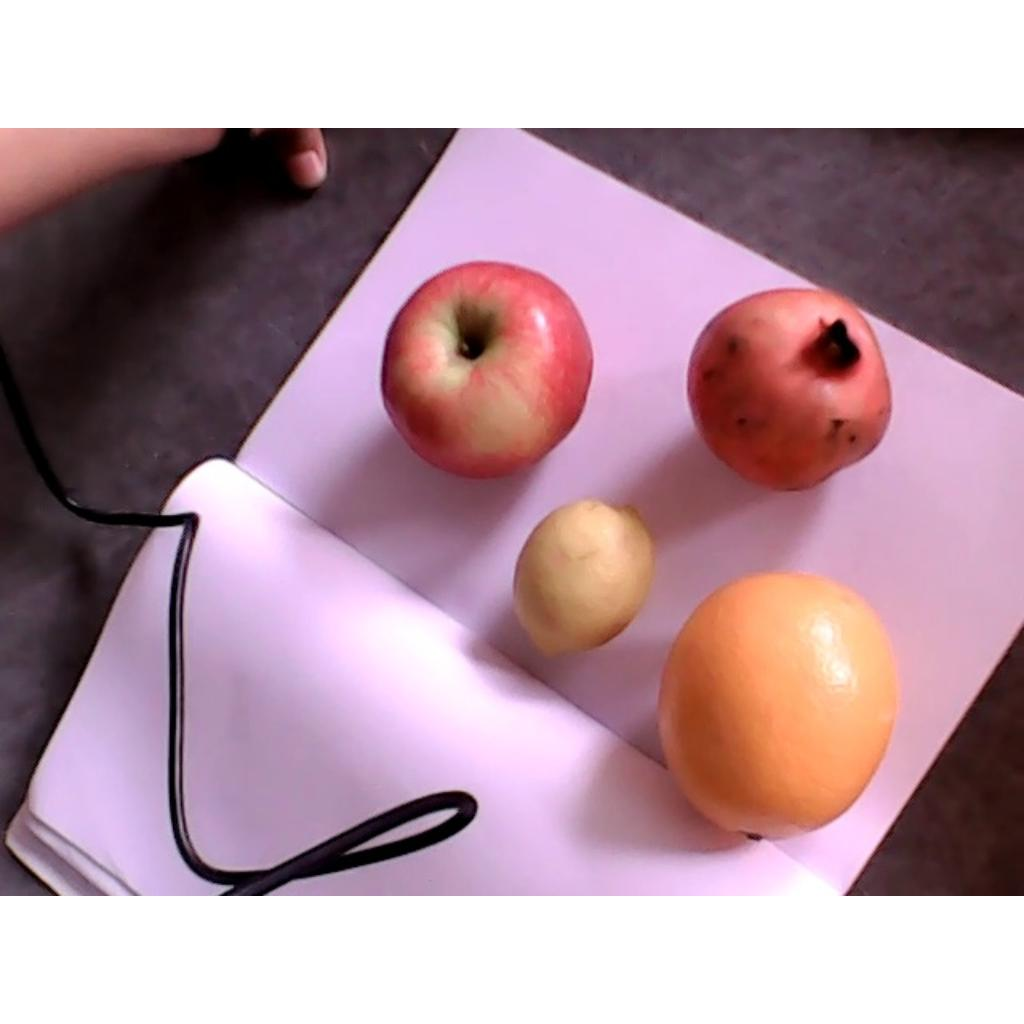apple: (381, 261, 592, 481)
lemon: (512, 500, 653, 655)
orange: (657, 566, 898, 842)
pomegranate: (687, 289, 892, 493)
